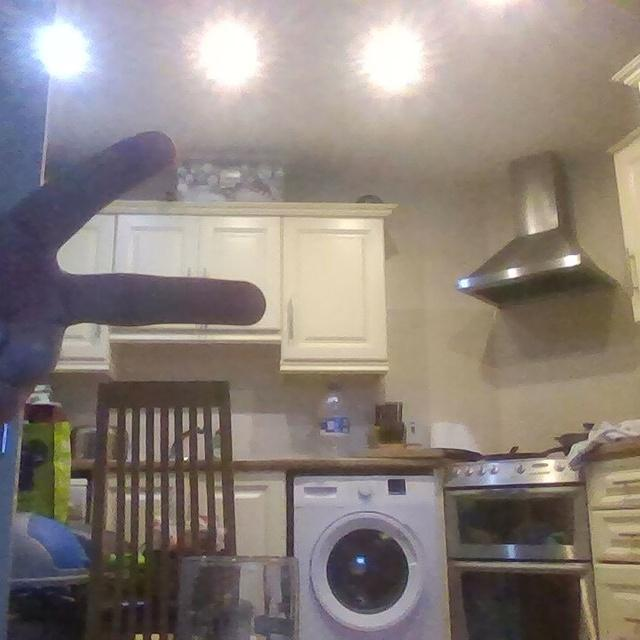scissors: (0, 128, 268, 466)
